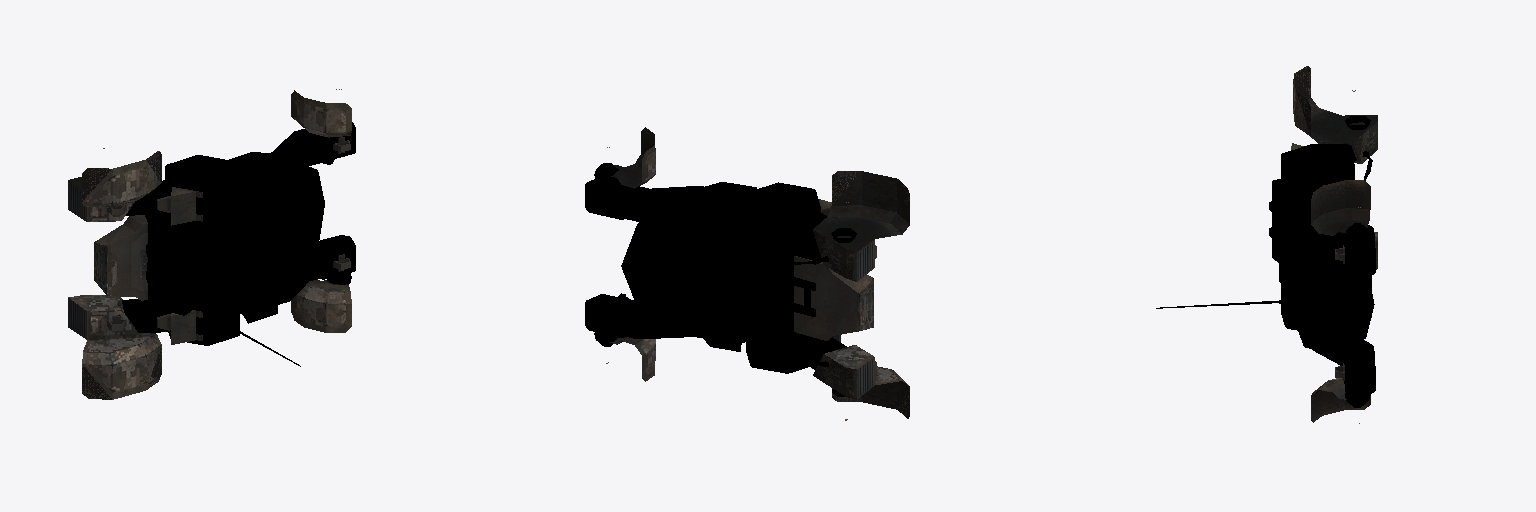
3 views of the same model, side by side, from view 1: azimuth 30°, elevation 25°; view 2: azimuth 150°, elevation 25°; view 3: azimuth 270°, elevation 25° (orthographic).
Parts seen in each view (by area): view 1: mtl_veh_t6_rcxd_alt, mtl_veh_t6_rcxd_extra_bits_alt; view 2: mtl_veh_t6_rcxd_alt, mtl_veh_t6_rcxd_extra_bits_alt; view 3: mtl_veh_t6_rcxd_alt, mtl_veh_t6_rcxd_extra_bits_alt.
Boxes of the visible parts, x1=… form: mtl_veh_t6_rcxd_alt: x1=122, y1=122, x2=355, y2=366; mtl_veh_t6_rcxd_extra_bits_alt: x1=68, y1=90, x2=351, y2=399; mtl_veh_t6_rcxd_alt: x1=585, y1=163, x2=856, y2=396; mtl_veh_t6_rcxd_extra_bits_alt: x1=610, y1=127, x2=909, y2=418; mtl_veh_t6_rcxd_alt: x1=1156, y1=116, x2=1375, y2=407; mtl_veh_t6_rcxd_extra_bits_alt: x1=1291, y1=66, x2=1377, y2=422.
Size of the model in its own units: 93.45 by 66.18 by 62.94.
Materials: 3 (2 with a texture image).